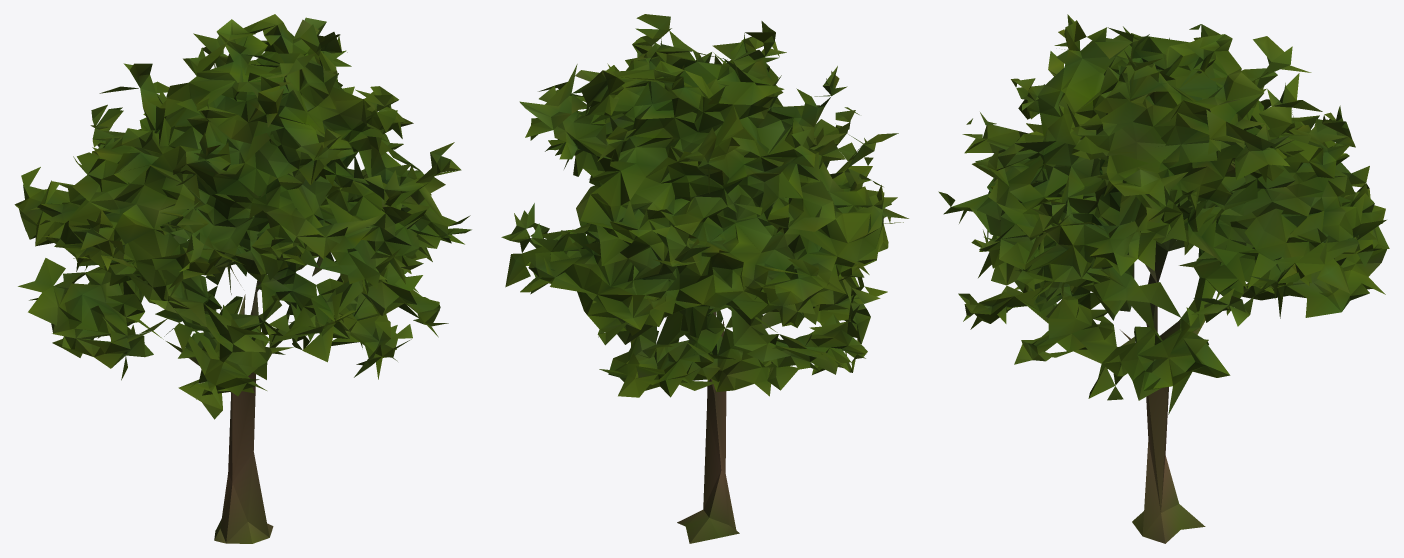
The model's file is lib_tp_doan.vc.glb.
3 renders of one model, left to right at view 1: azimuth 30°, elevation 25°; view 2: azimuth 150°, elevation 25°; view 3: azimuth 270°, elevation 25°, orthographic. The views are drawn at different scales.
Visible parts, largest first — view 1: lib_tp_doan; view 2: lib_tp_doan; view 3: lib_tp_doan.
Part boxes in pixels (x1=…): lib_tp_doan: x1=14, y1=14, x2=471, y2=543; lib_tp_doan: x1=501, y1=14, x2=908, y2=543; lib_tp_doan: x1=938, y1=14, x2=1389, y2=543.
Bounding box in the file's own units: 1.48 × 1.93 × 1.55.
